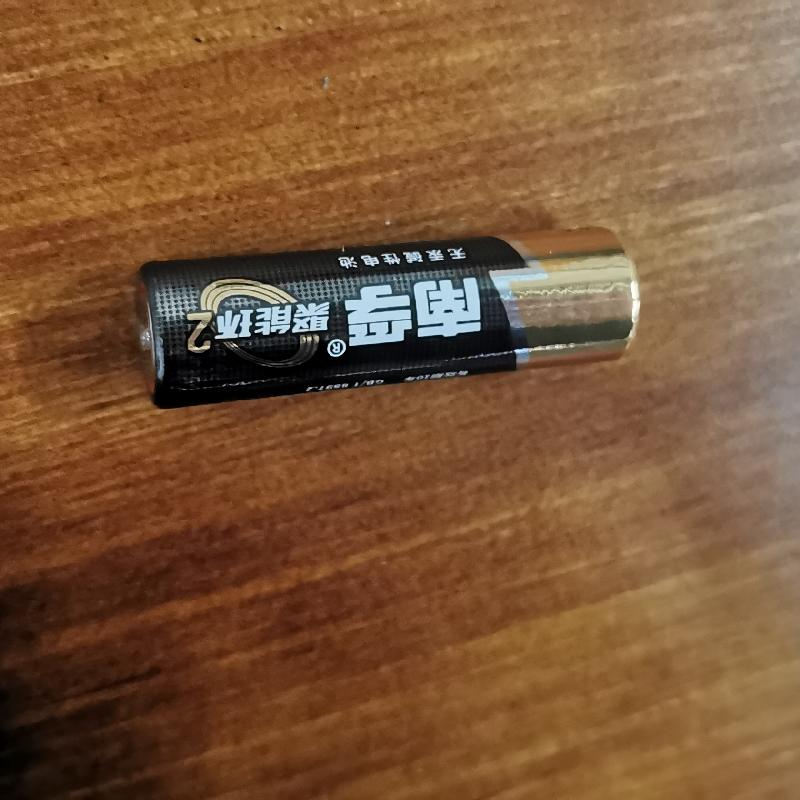battery: (129, 232, 646, 404)
